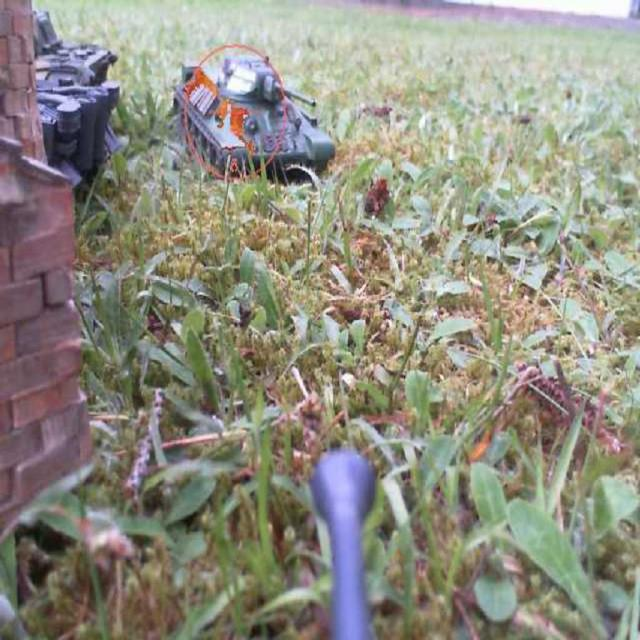tank: (174, 49, 336, 180), (34, 6, 126, 190)
